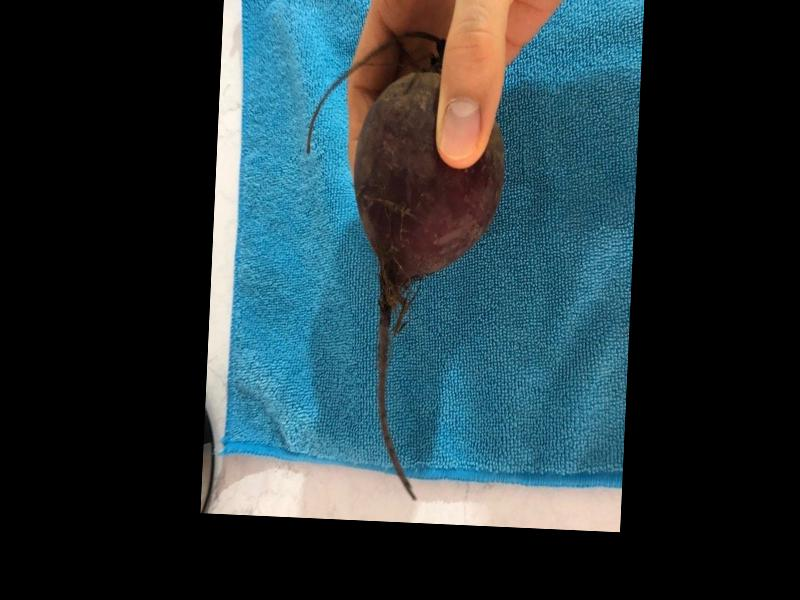Beet: (292, 28, 510, 505)
